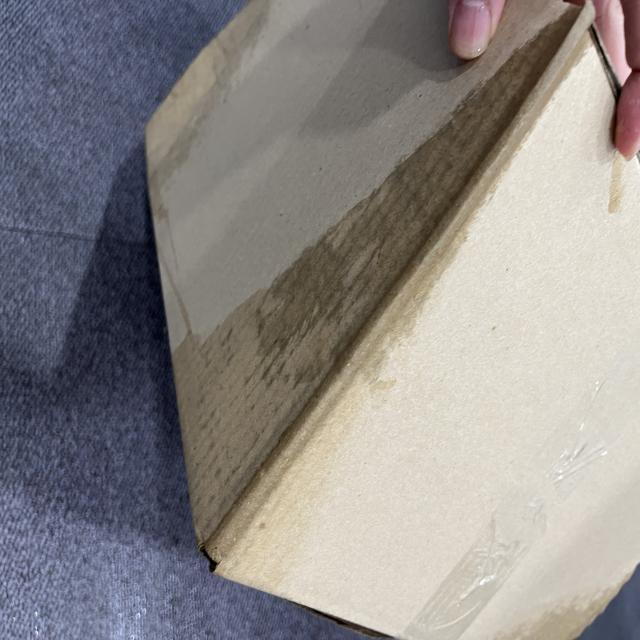wet: (165, 10, 582, 561)
